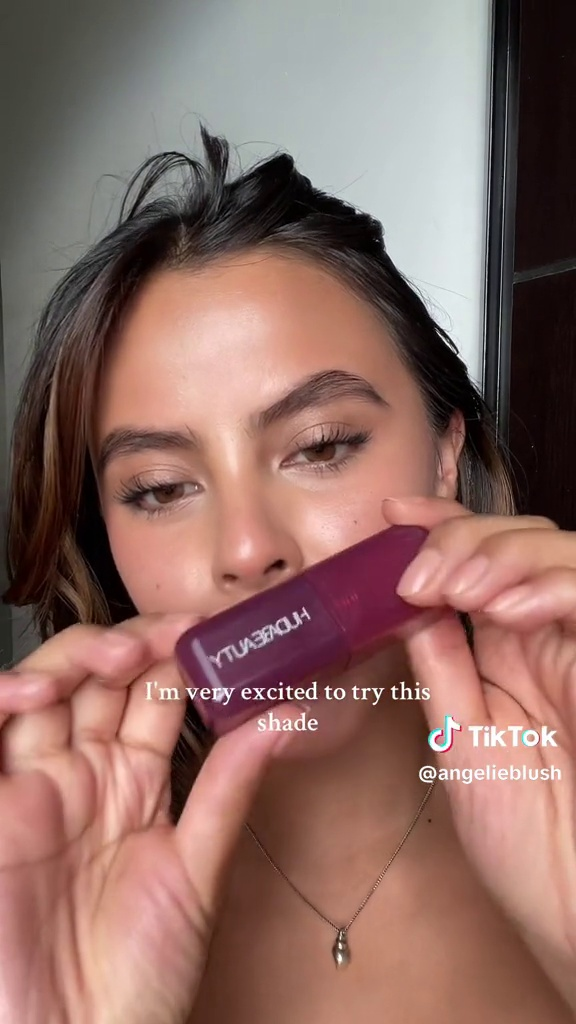train' :'yolo_data/train/images',: (166, 514, 461, 749)
